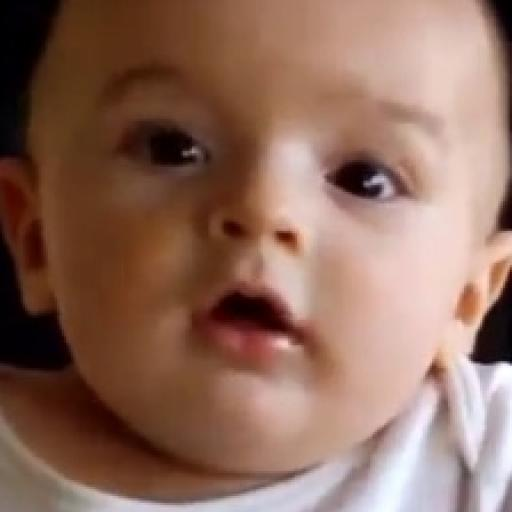Autism: (18, 0, 512, 487)
